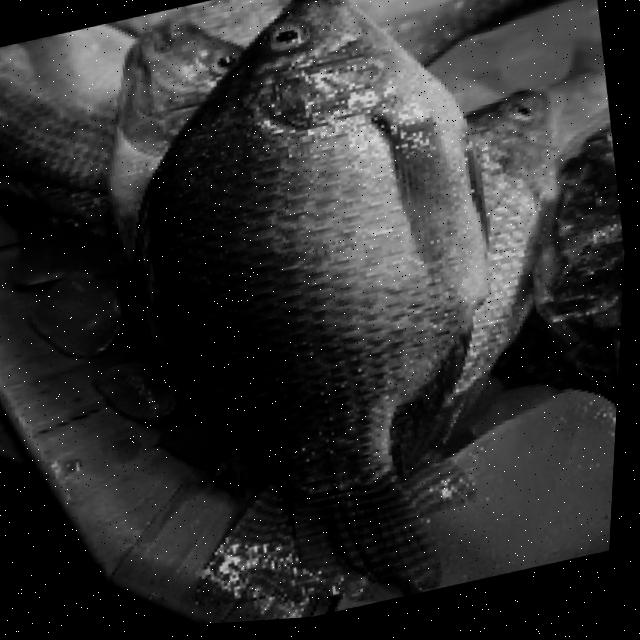Fresh: (158, 0, 502, 433)
